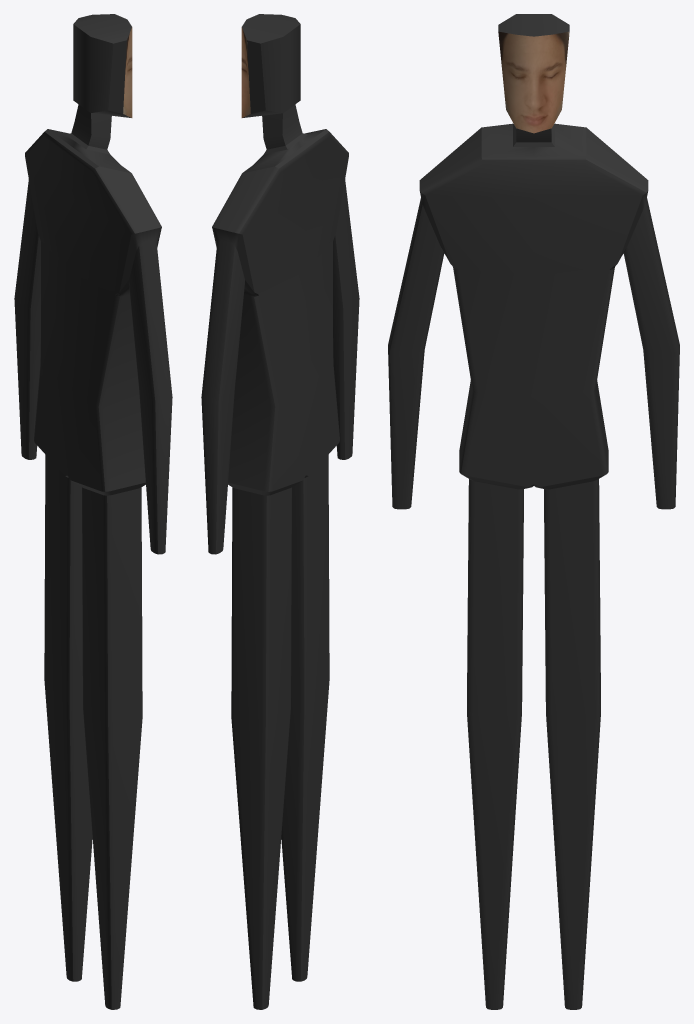
File: panda_dead.fbx
3 renders of one model, left to right at view 1: azimuth 30°, elevation 25°; view 2: azimuth 150°, elevation 25°; view 3: azimuth 270°, elevation 25°, orthographic. The views are drawn at different scales.
Parts seen in each view (by area): view 1: panda_dead; view 2: panda_dead; view 3: panda_dead.
Part boxes in pixels (x1,y1,x2,y2): panda_dead: (14, 14, 172, 1009); panda_dead: (201, 14, 359, 1009); panda_dead: (388, 14, 679, 1009).
Bounding box in the file's own units: 0.7035 × 10.93 × 2.93.
